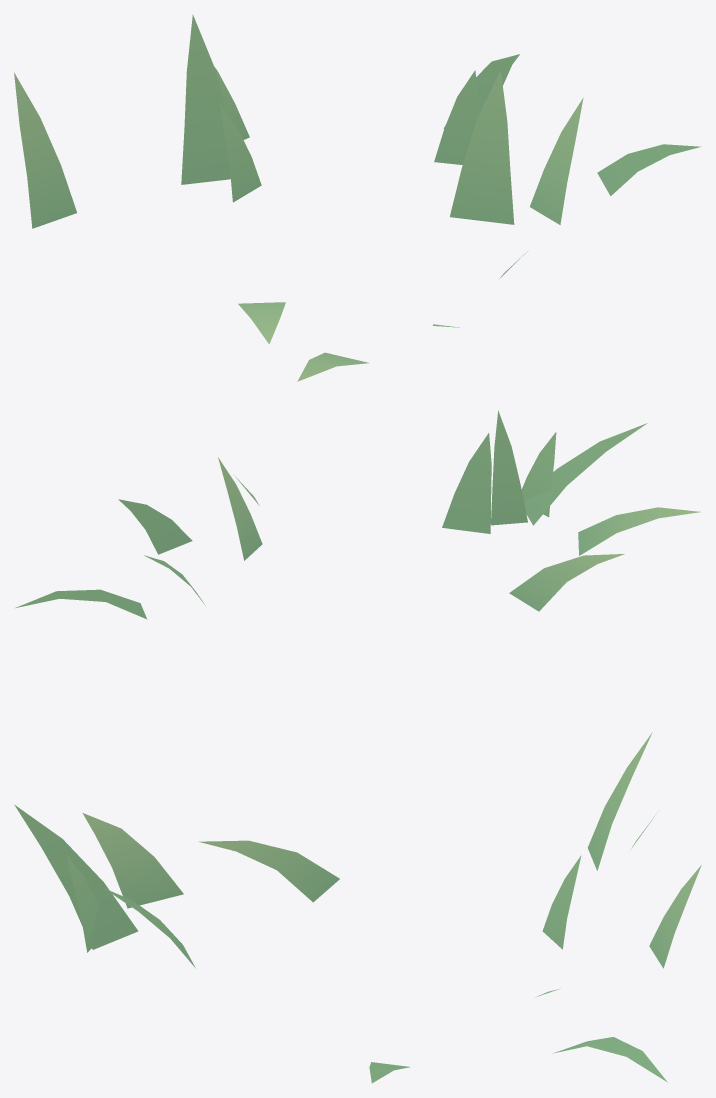
File: grass_sward_far_c.glb
The picture shows the model from 3 angles, top to bottom: view 1: azimuth 30°, elevation 25°; view 2: azimuth 150°, elevation 25°; view 3: azimuth 270°, elevation 25°; orthographic projection. The views are drawn at different scales.
Visible parts, largest first — view 1: soft; view 2: soft; view 3: soft.
Boxes of the visible parts, x1,y1,x2,y2 form: soft: [14, 14, 701, 381]; soft: [15, 410, 700, 619]; soft: [14, 732, 701, 1083].
Bounding box in the file's own units: 0.9062 × 0.215 × 1.
